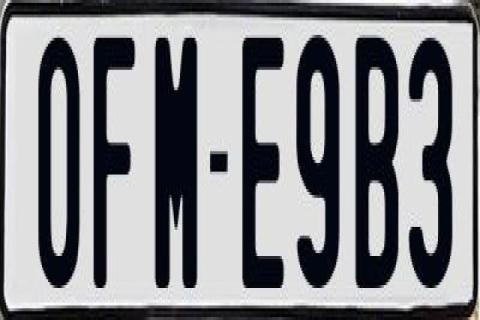0: (34, 38, 82, 297), (407, 35, 453, 288), (294, 26, 338, 288)
B: (356, 29, 406, 285)
E: (241, 32, 290, 294)
F: (92, 38, 140, 306)
M: (156, 35, 200, 291)
